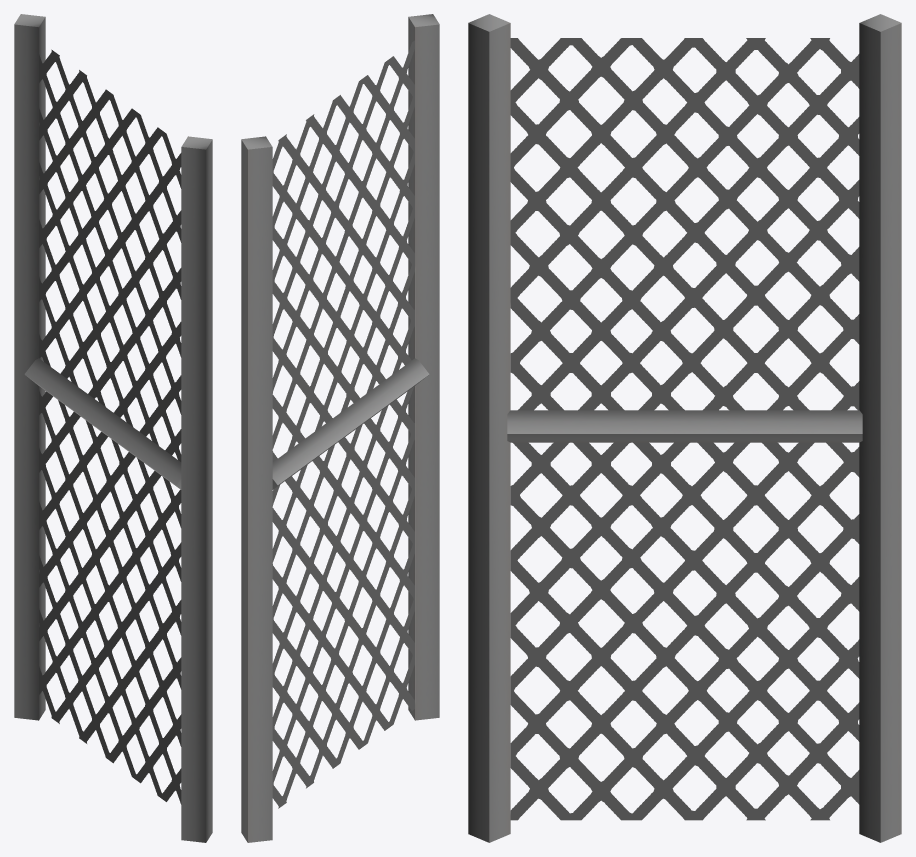
Rendered from Fence.fbx.
3 views of the same model, side by side, from view 1: azimuth 30°, elevation 25°; view 2: azimuth 150°, elevation 25°; view 3: azimuth 270°, elevation 25° (orthographic). The views are drawn at different scales.
Visible parts, largest first — view 1: Cylinder.001; view 2: Cylinder.001; view 3: Cylinder.001.
Boxes of the visible parts, x1,y1,x2,y2 form: Cylinder.001: (14, 14, 212, 842); Cylinder.001: (241, 14, 439, 842); Cylinder.001: (468, 14, 901, 842).
Size of the model in its own units: 25.6 by 541 by 262.
